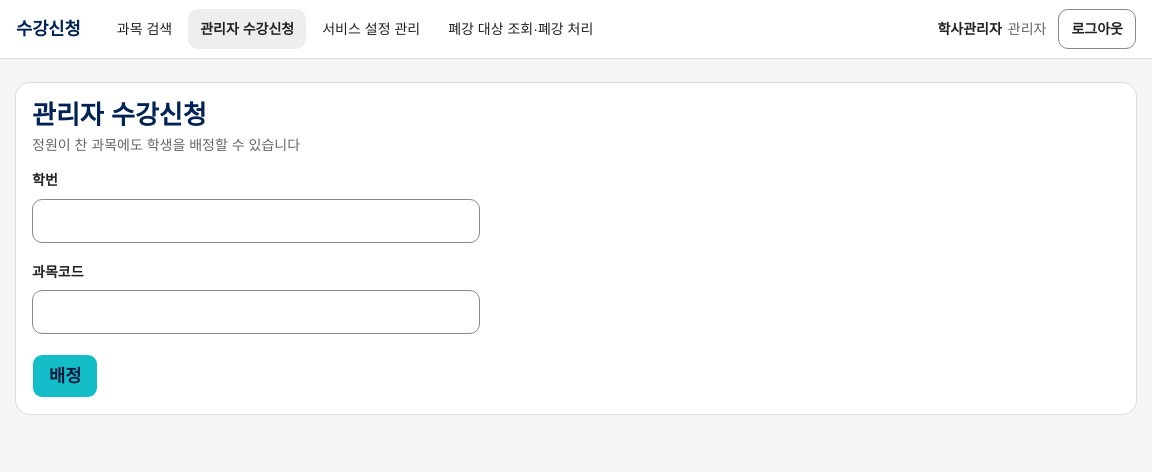
Test: T2-12 20260001 CSE4020 배정 오류
Type "20260001" into the field labelled "학번". click: [256, 221]
box: [32, 199, 480, 243]
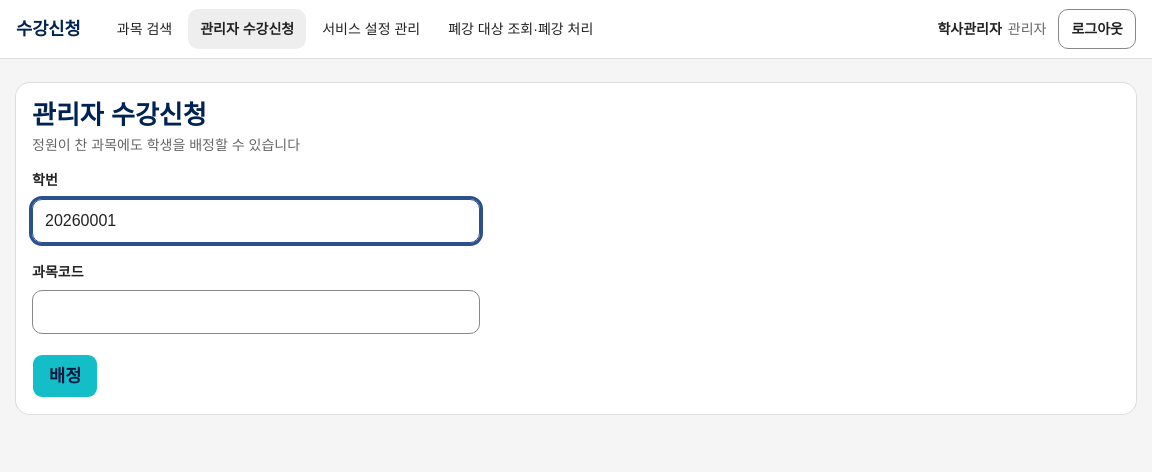
Type "CSE4020" into the field labelled "과목코드". click: [256, 312]
box: [32, 290, 480, 334]
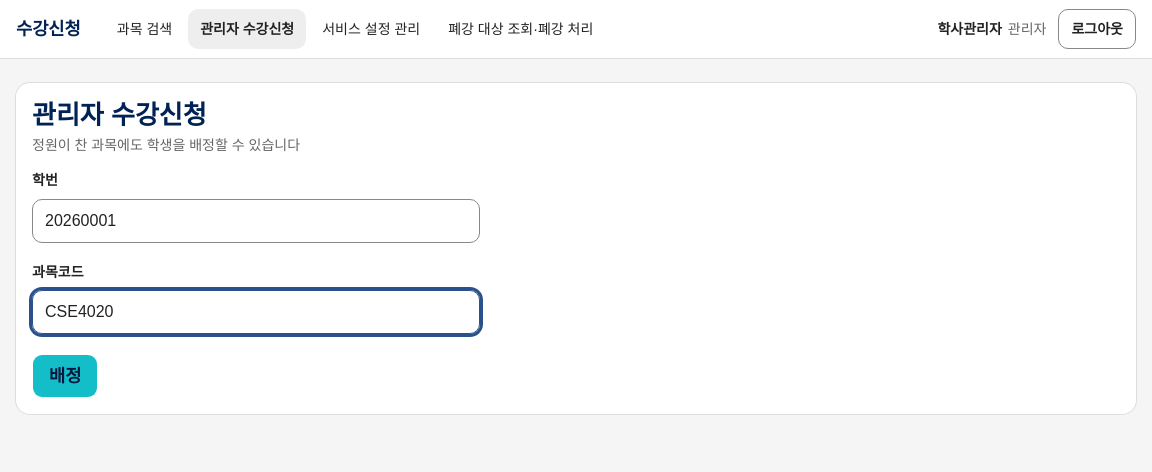
Click the button "배정". click: [65, 376]
box: [32, 354, 98, 398]
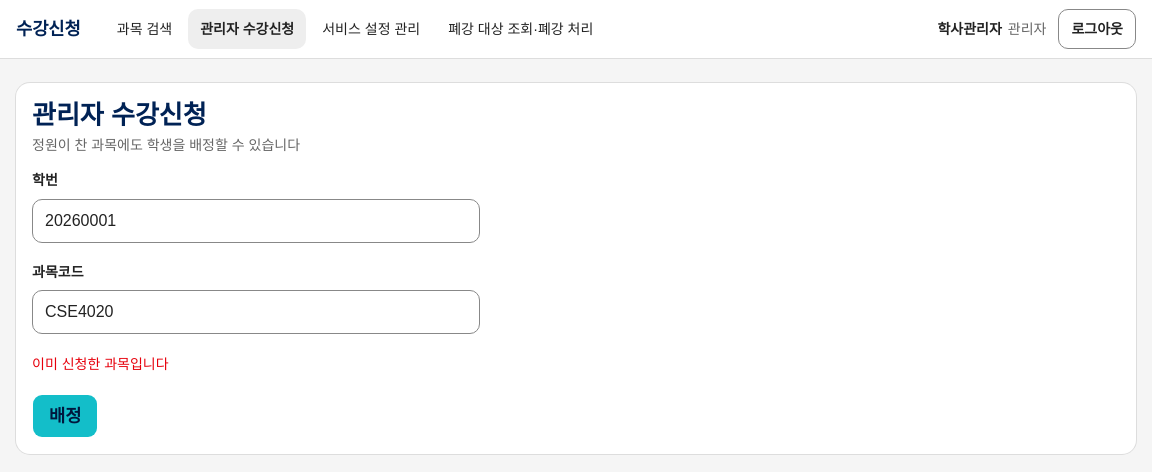
Result: the text "이미 신청한 과목입니다" is shown at [32, 356, 169, 372]
